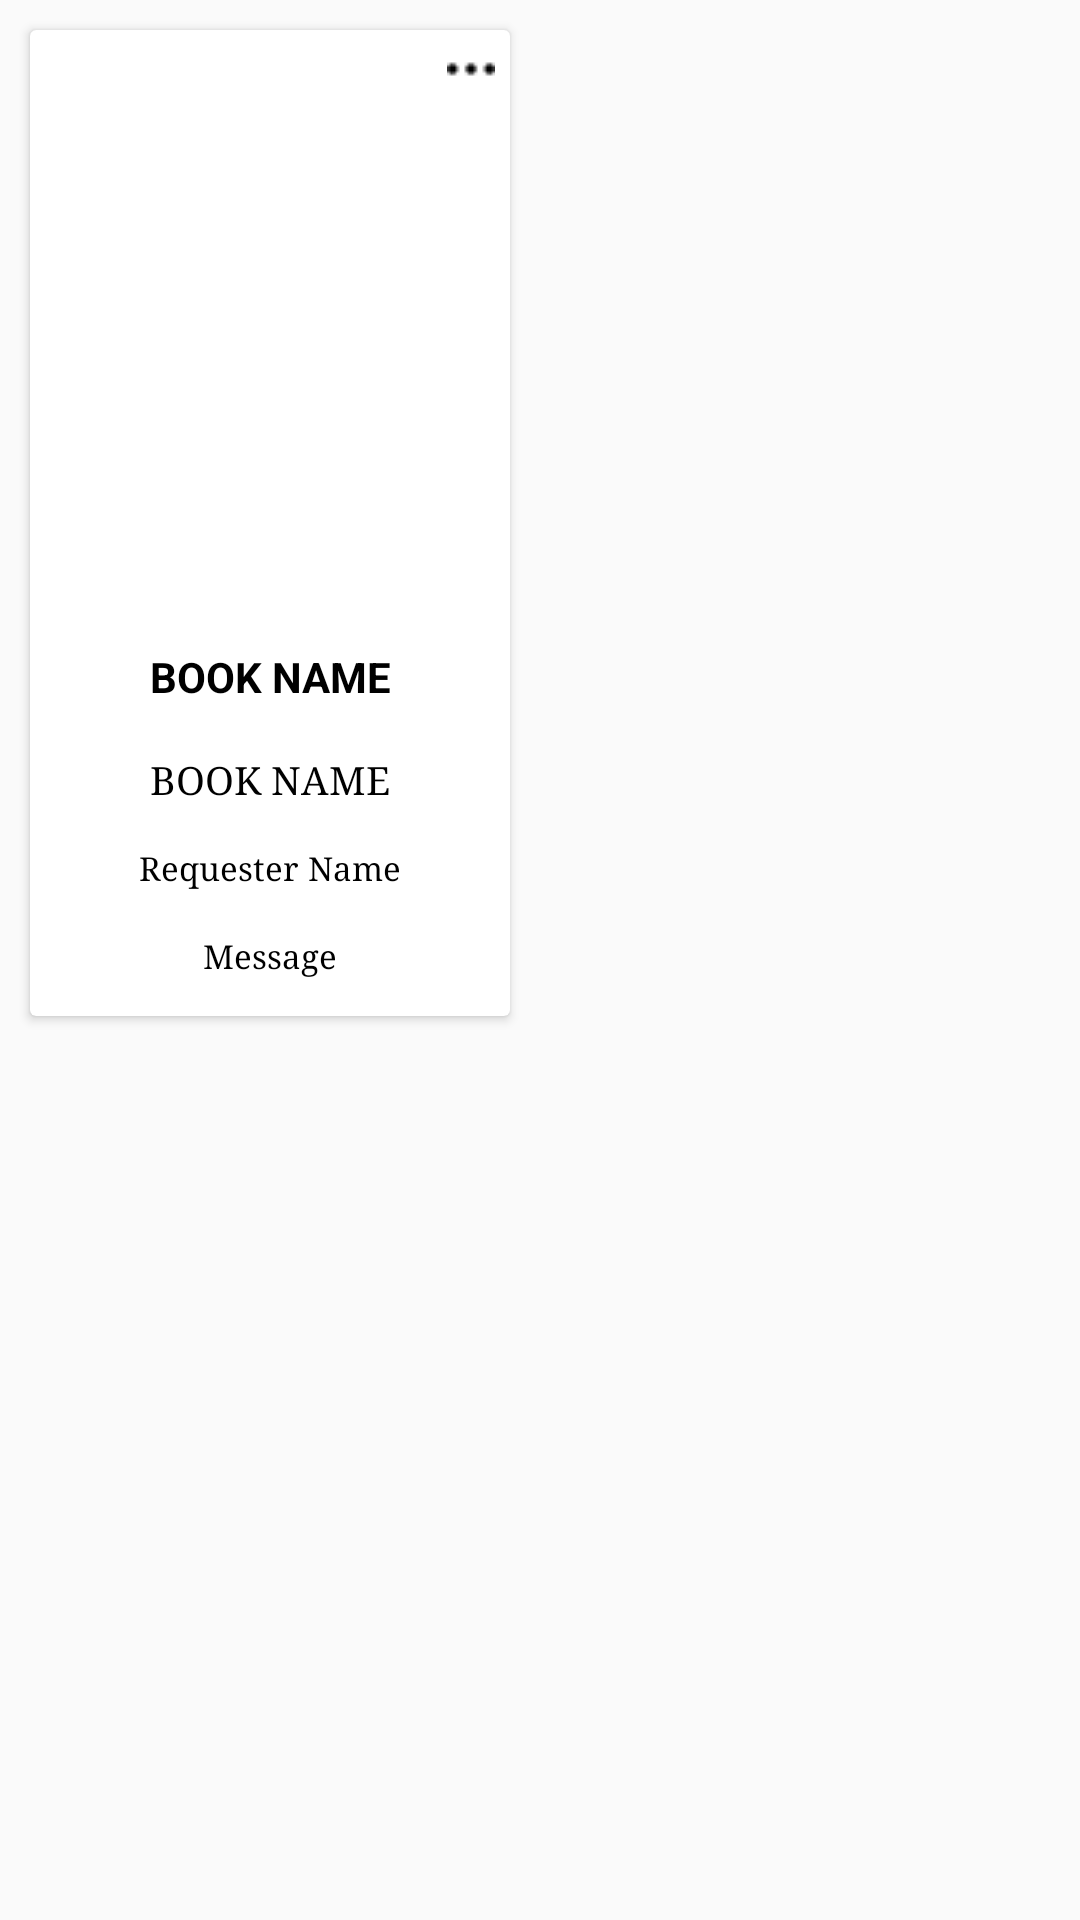

Where icons sit on this 1080w x 1920h app screen, as (x1, y1, x2, y2):
menu: (447, 62, 495, 76)
